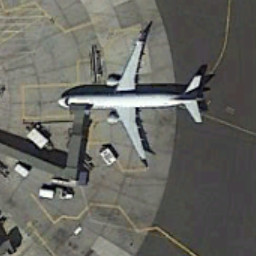Airplane: (42, 15, 214, 169)
